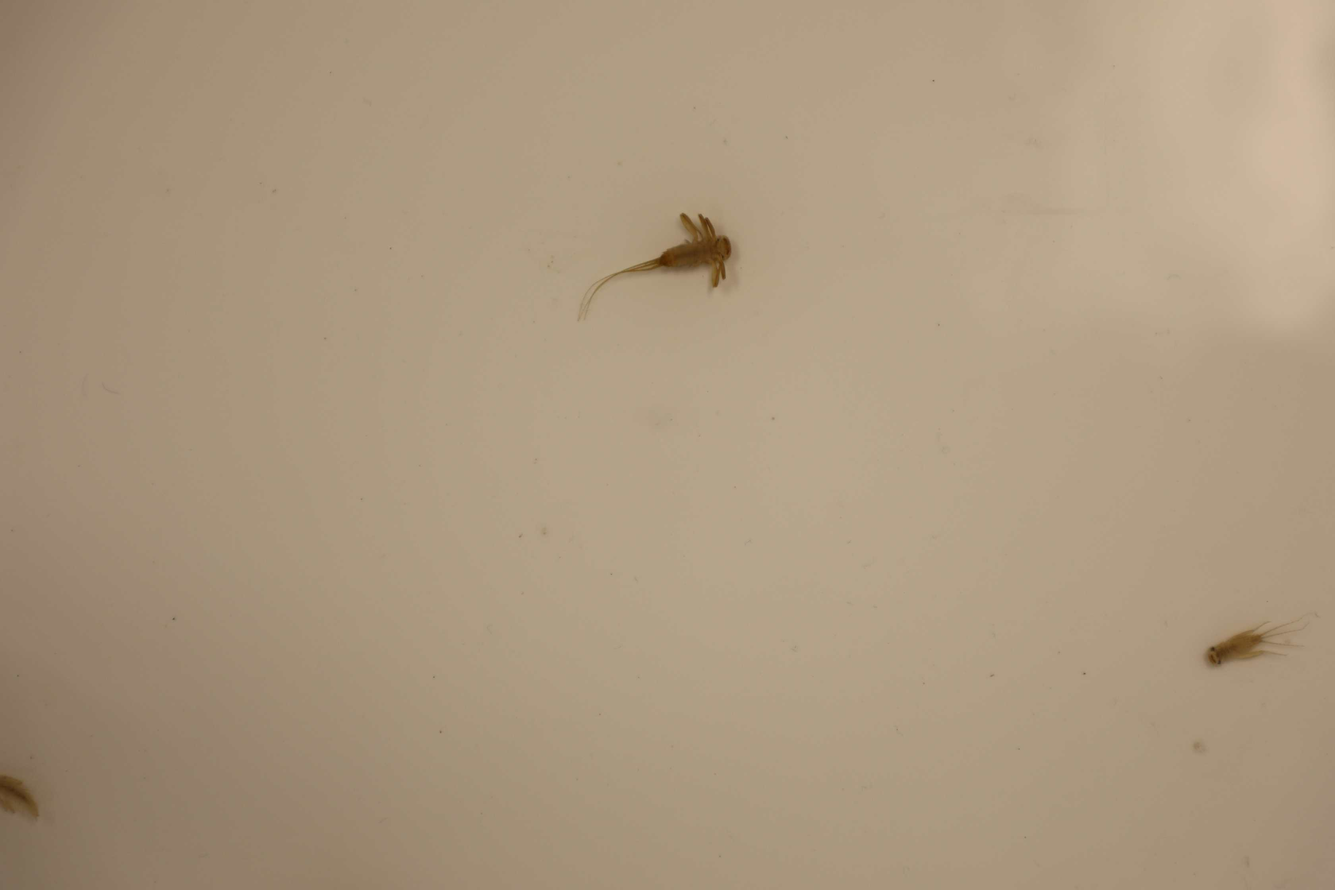Mayfly: (577, 208, 735, 331), (1200, 608, 1311, 679), (0, 770, 43, 821)
